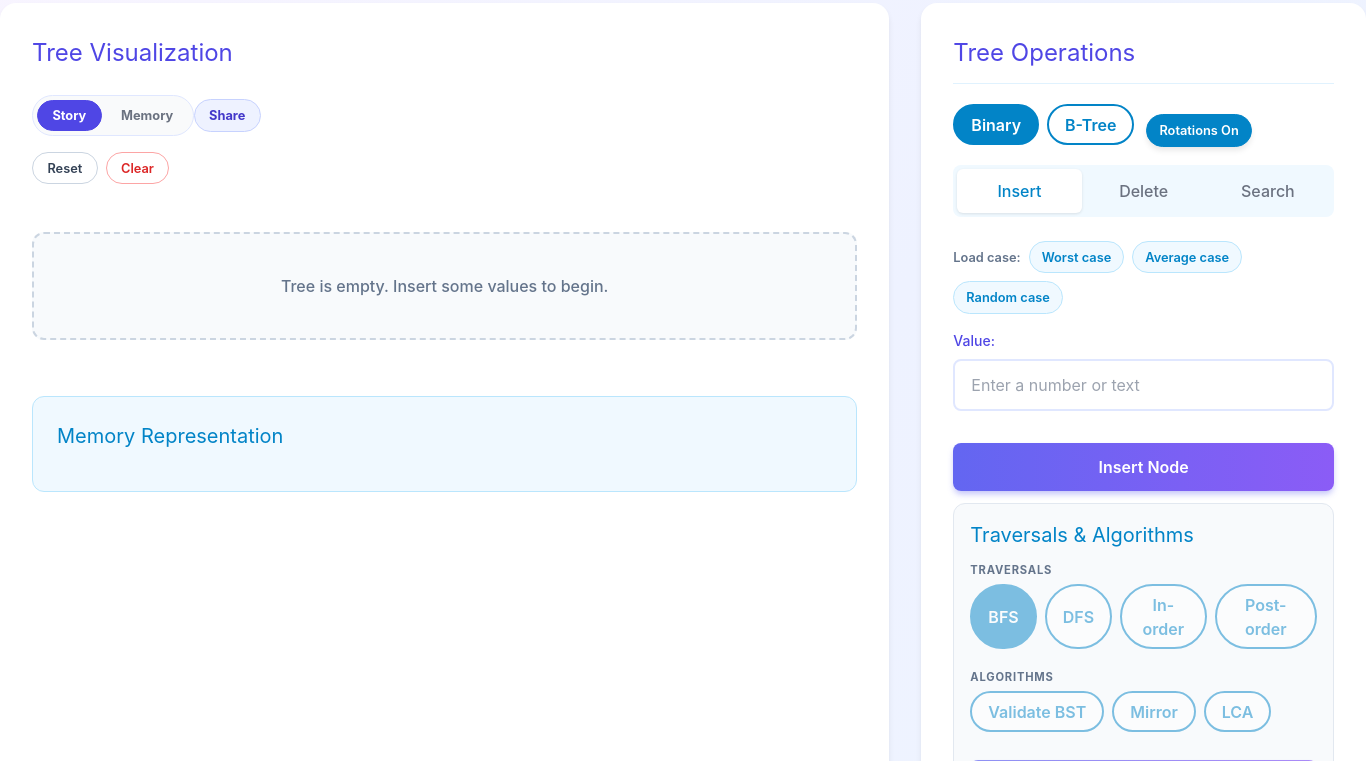
inserts a float value
The image size is (1366, 761).
(page scrolled)
Type "3.5" into the field with placeholder "Enter a number or text".
click(1144, 385); type("3.5")  # box [953,359,1334,411]
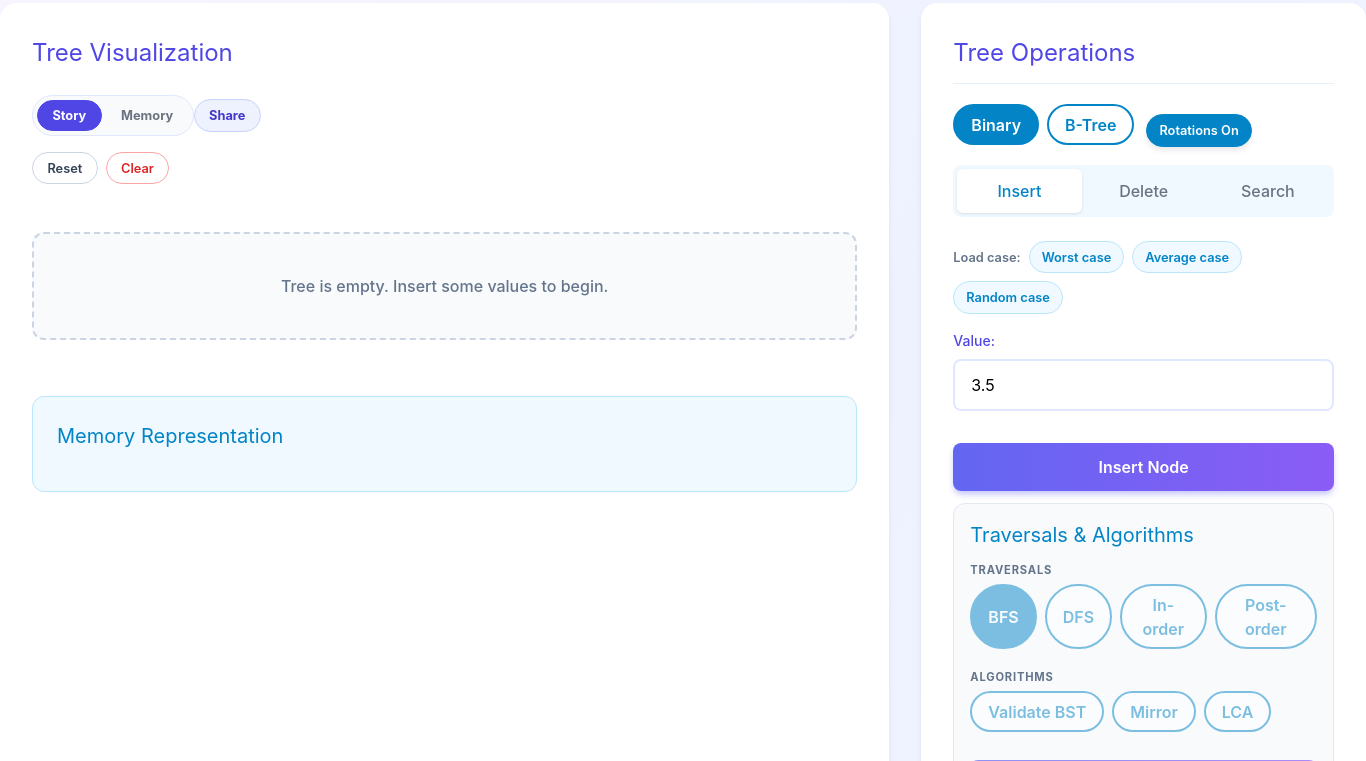
Click the button "Insert Node".
click(1144, 467)  # box [953,443,1334,491]
Wait 30000 ms
(page scrolled)
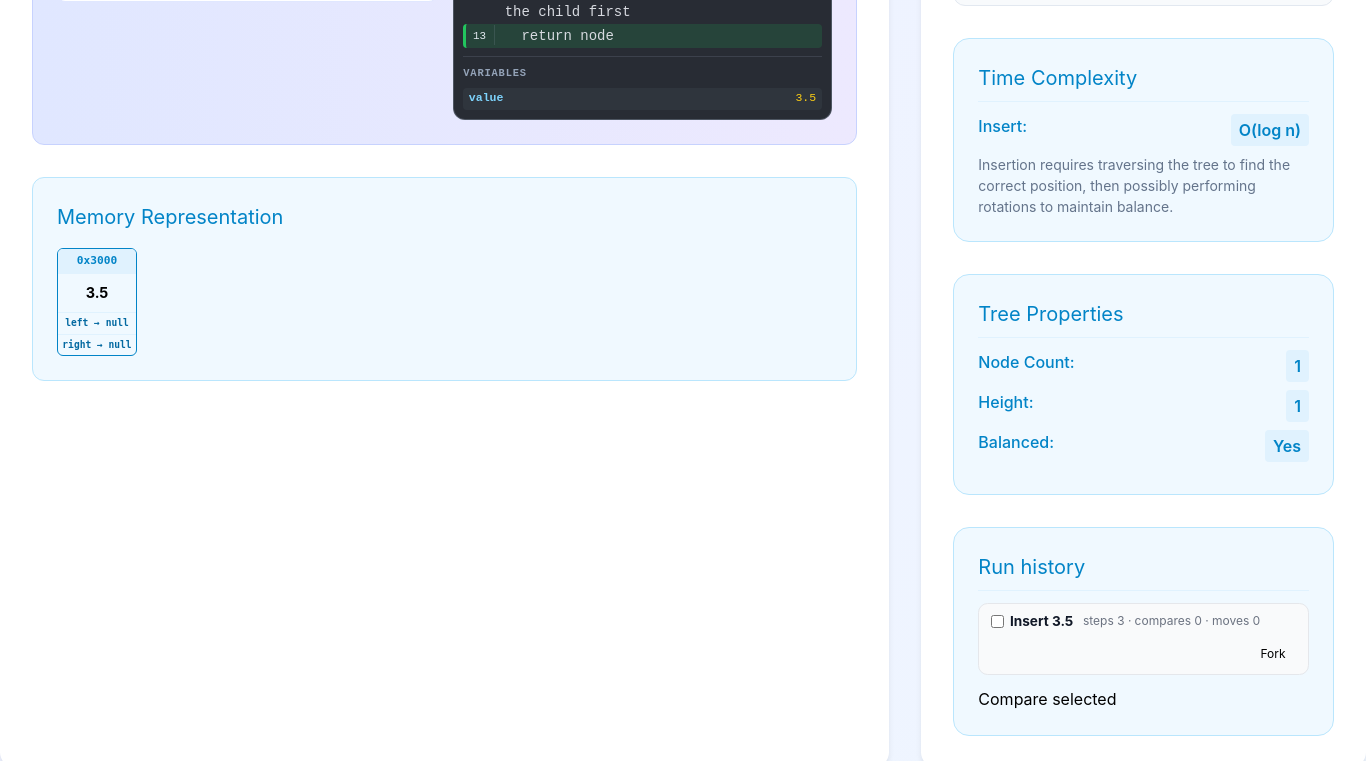
Check: the text "Insert 3.5" is shown, box [1010,611,1073,632]
